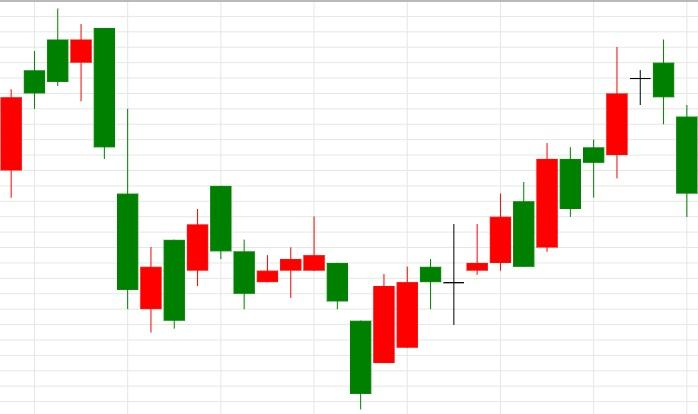shooting_star_fall: (233, 216, 326, 309)
